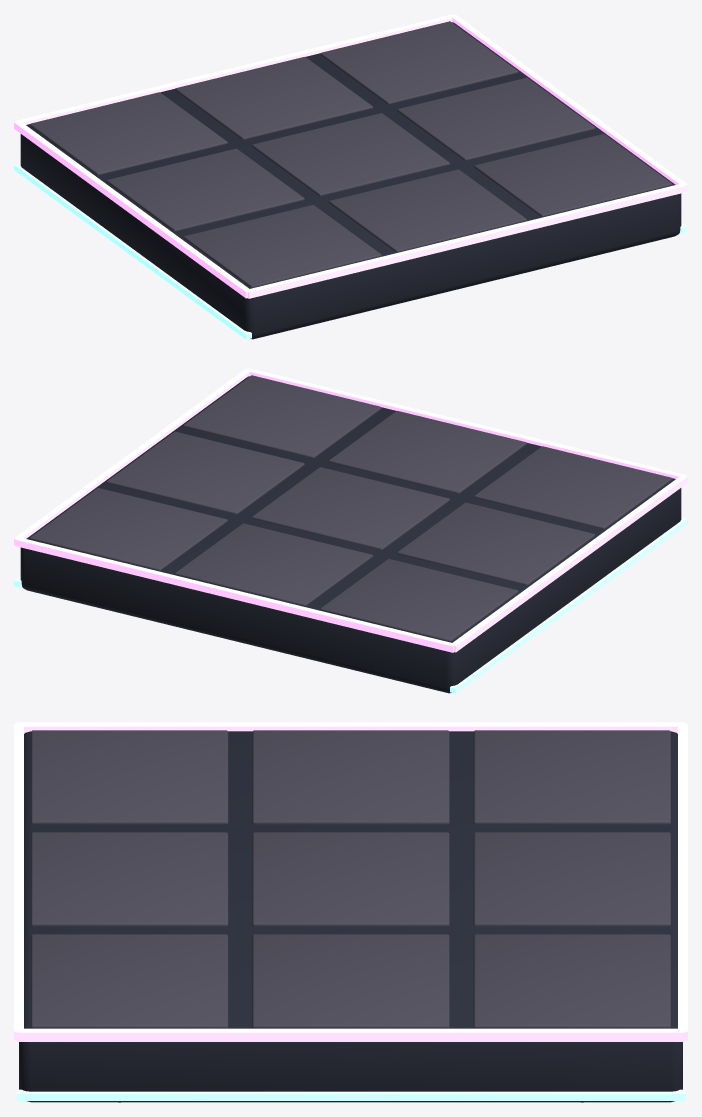
Rendered from platform.glb.
3 views of the same model, one above another, from view 1: azimuth 30°, elevation 25°; view 2: azimuth 150°, elevation 25°; view 3: azimuth 270°, elevation 25° (orthographic). The views are drawn at different scales.
Parts seen in each view (by area): view 1: Platform; view 2: Platform; view 3: Platform.
Boxes of the visible parts, x1,y1,x2,y2 form: Platform: (14, 14, 687, 339); Platform: (14, 368, 687, 693); Platform: (14, 722, 687, 1102).
Bounding box in the file's own units: 3.65 × 0.555 × 3.35.
